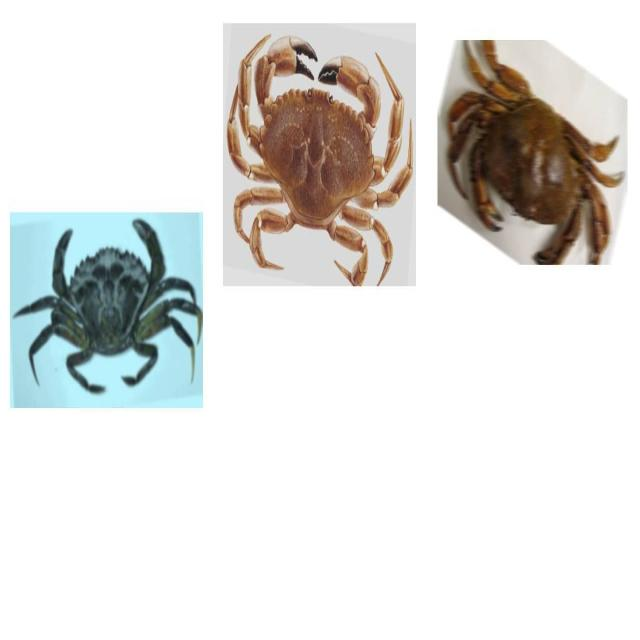egc: (14, 219, 202, 394)
